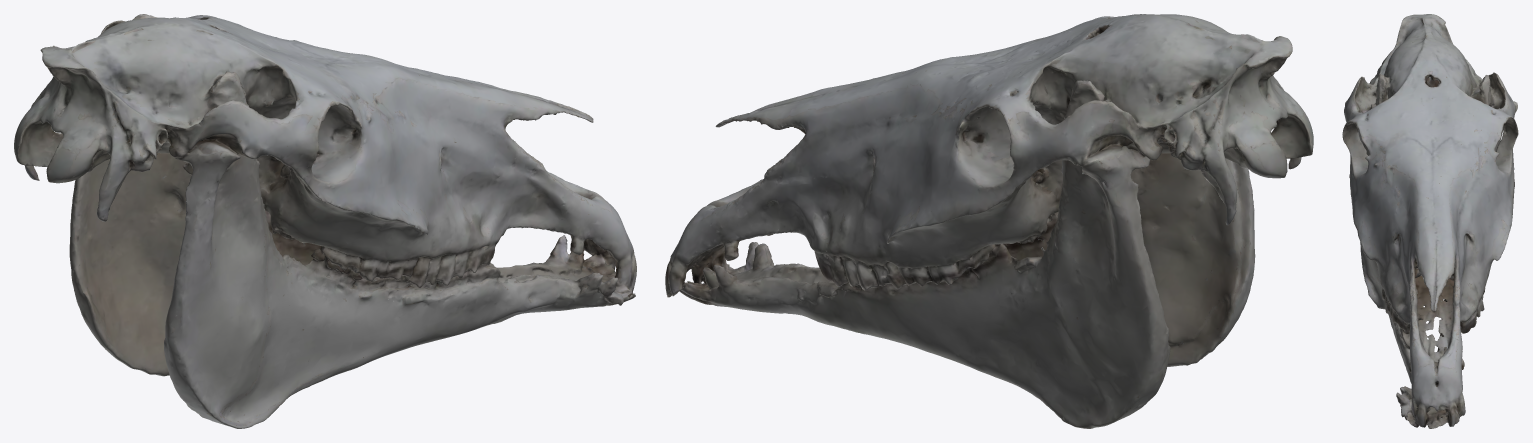
The model's file is sf-lebka-kone-horse-skull-b2b503.glb.
The picture shows the model from 3 angles, left to right: view 1: azimuth 30°, elevation 25°; view 2: azimuth 150°, elevation 25°; view 3: azimuth 270°, elevation 25°; orthographic projection. The views are drawn at different scales.
Parts seen in each view (by area): view 1: meshNode_Material_u1_v1_0; view 2: meshNode_Material_u1_v1_0; view 3: meshNode_Material_u1_v1_0.
Boxes of the visible parts, left/top/right/bottom form: meshNode_Material_u1_v1_0: left=14, top=14, right=636, bottom=428; meshNode_Material_u1_v1_0: left=665, top=14, right=1313, bottom=428; meshNode_Material_u1_v1_0: left=1342, top=14, right=1518, bottom=428.
Size of the model in its own units: 3282 by 2028 by 1309.
Materials: 1 (1 with a texture image).
